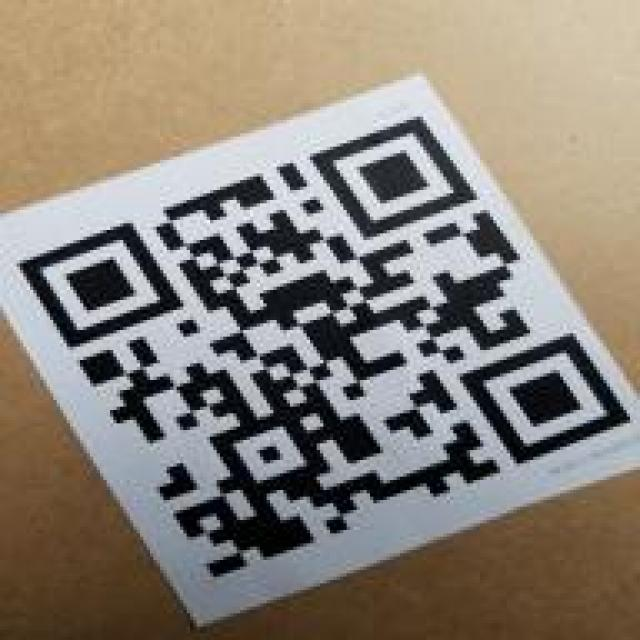QR_CODE: (10, 96, 637, 582)
